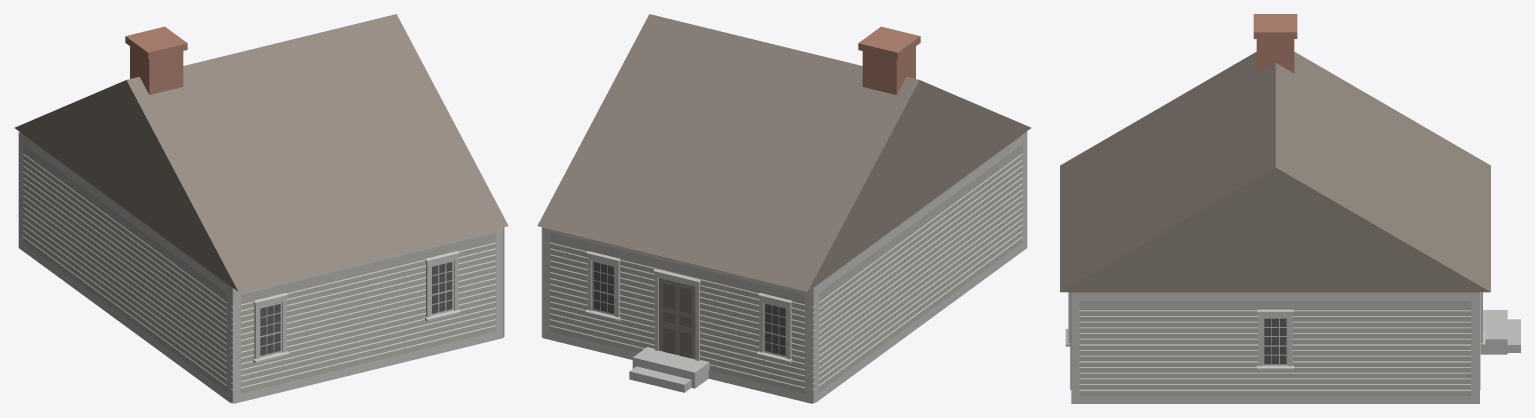
Rendered from recon_1835_blk_randolph_market_d5_01__inferred_1835.glb.
3 renders of one model, left to right at view 1: azimuth 30°, elevation 25°; view 2: azimuth 150°, elevation 25°; view 3: azimuth 270°, elevation 25°, orthographic. The views are drawn at different scales.
Parts seen in each view (by area): view 1: recon_1835_blk_randolph_market_d5_01__inferred_1835; view 2: recon_1835_blk_randolph_market_d5_01__inferred_1835; view 3: recon_1835_blk_randolph_market_d5_01__inferred_1835.
Part boxes in pixels (left/top/right/bottom): recon_1835_blk_randolph_market_d5_01__inferred_1835: left=14, top=14, right=508, bottom=403; recon_1835_blk_randolph_market_d5_01__inferred_1835: left=537, top=14, right=1031, bottom=403; recon_1835_blk_randolph_market_d5_01__inferred_1835: left=1060, top=14, right=1520, bottom=403.
Size of the model in its own units: 6.87 by 6.61 by 10.32.
